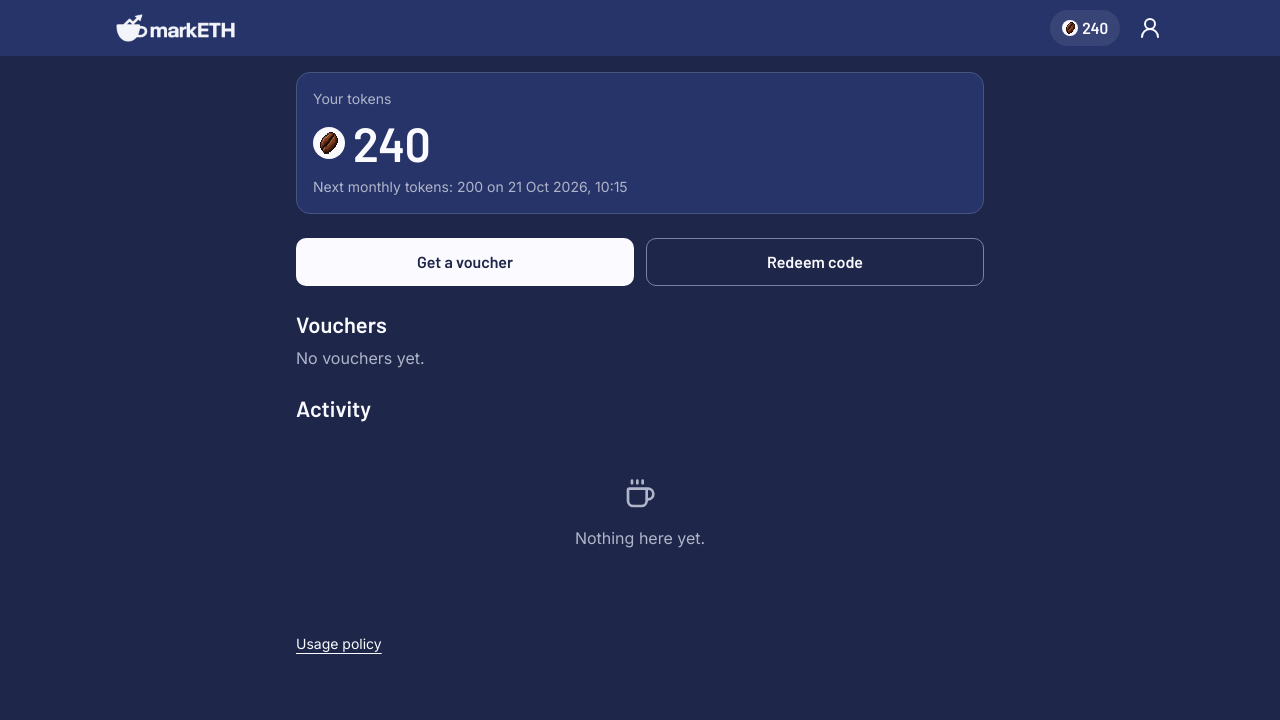
Test case: redeeming a code › while the request is on its way the button waits, the field is locked and the sheet stays
Click the button "Redeem code": [815, 262] box [646,238,984,286]
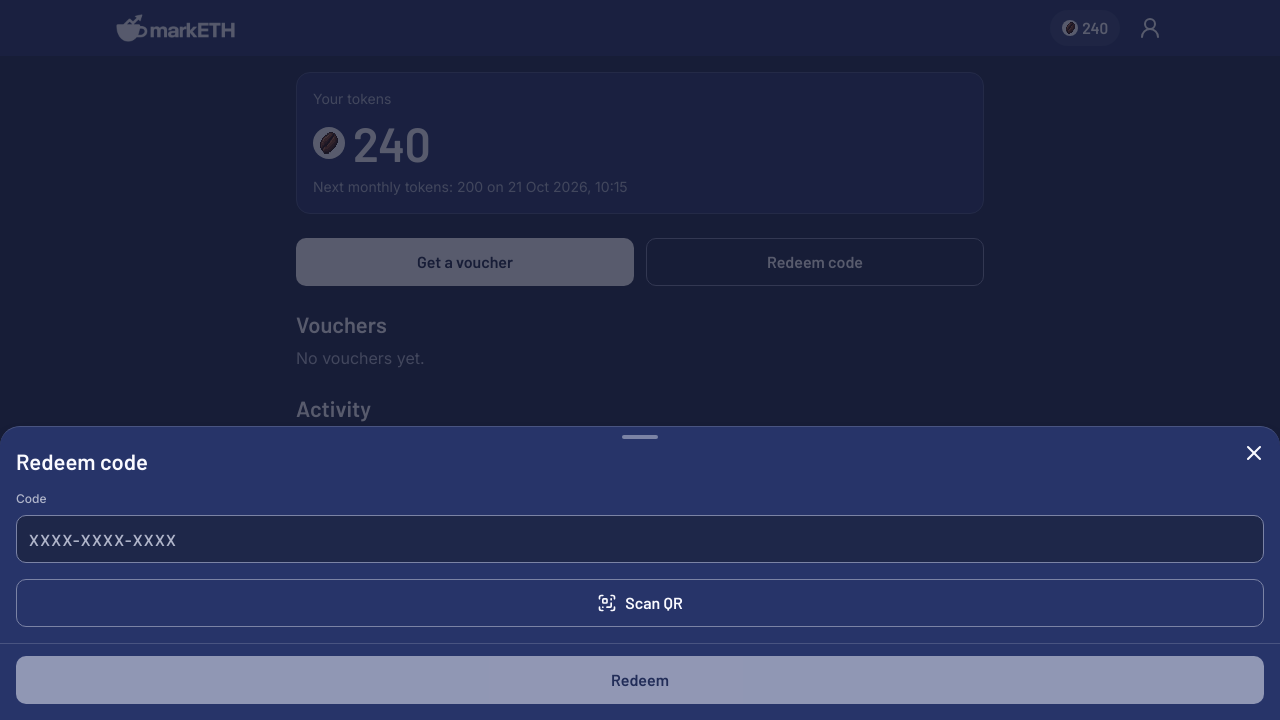
In the field labelled "Code": [640, 539] box [16,515,1264,563], type "4f7kq2m9xab3"
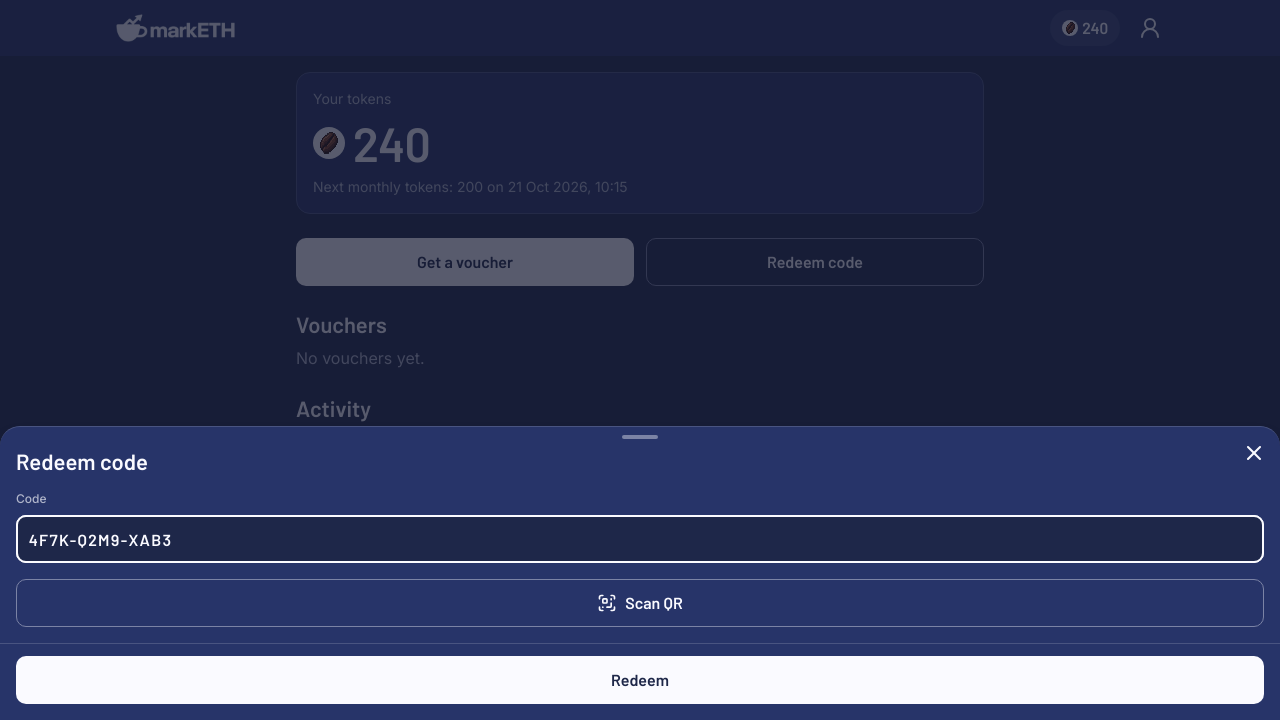
Click the button "Redeem": [640, 680] box [16,656,1264,704]
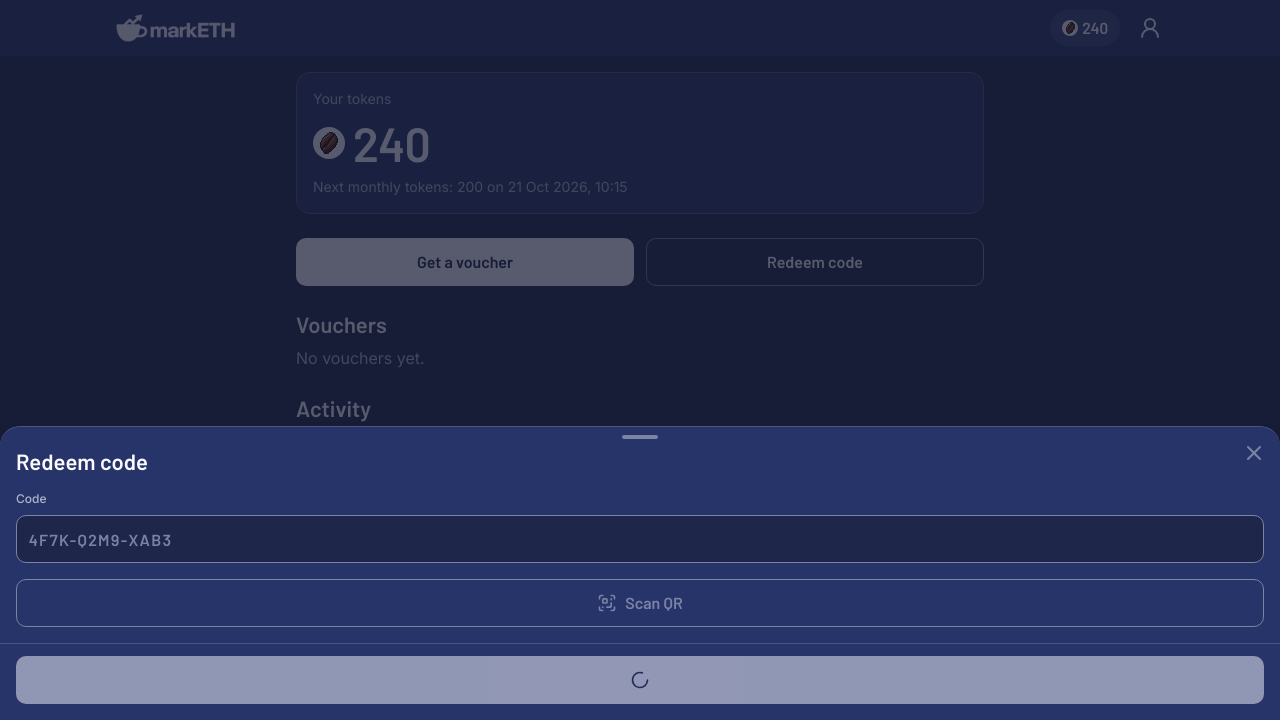
Check: the button named "Redeem" is disabled, box [16,656,1264,704]
Check: the field labelled "Code" is disabled, box [16,515,1264,563]
Check: the button "Scan QR" is disabled, box [16,579,1264,627]
Press Escape
Check: the dialog is shown, box [0,426,1279,719]
Click the button named "Redeem": [640, 680] box [16,656,1264,704]
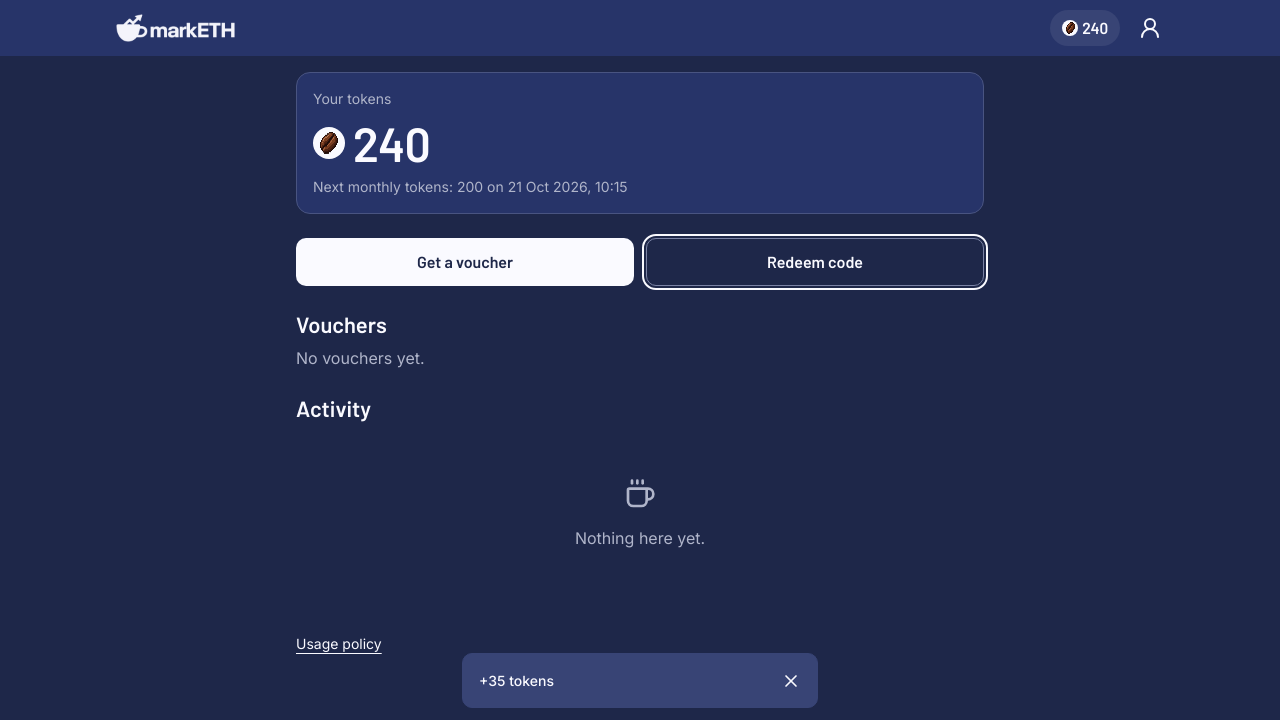
Check: the dialog is gone
